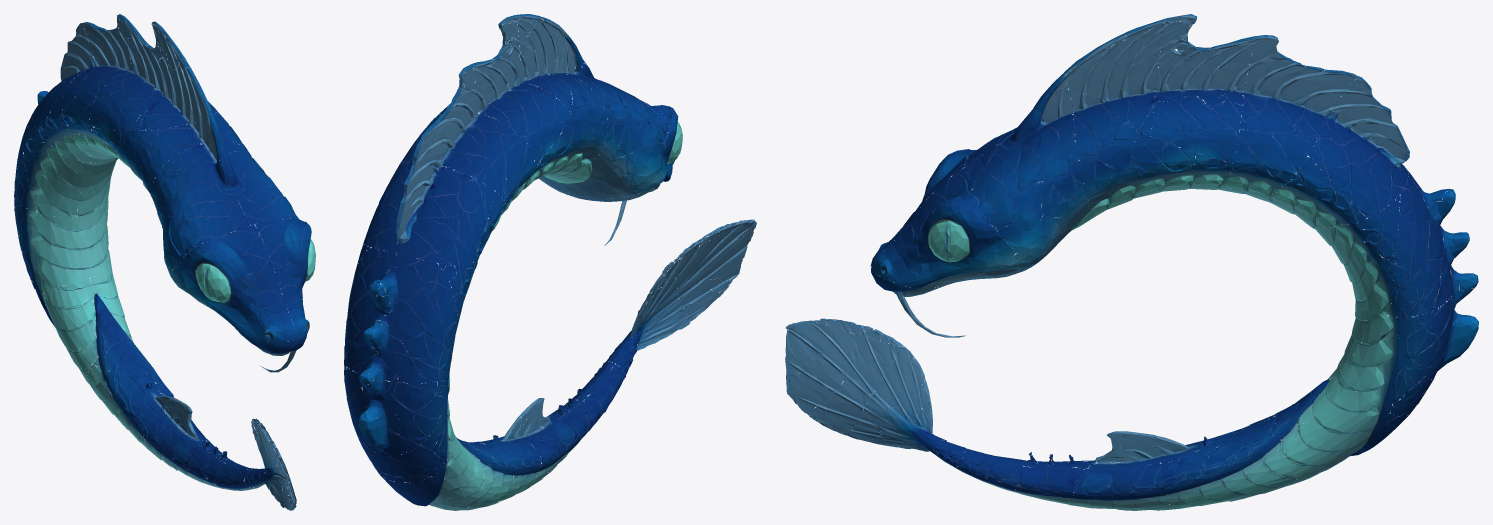
File: ripplefin.glb
The picture shows the model from 3 angles, left to right: view 1: azimuth 30°, elevation 25°; view 2: azimuth 150°, elevation 25°; view 3: azimuth 270°, elevation 25°; orthographic projection. The views are drawn at different scales.
Parts seen in each view (by area): view 1: tripo_node_de3218b3-d1b6-41b6-944c-472f3e09dbb9; view 2: tripo_node_de3218b3-d1b6-41b6-944c-472f3e09dbb9; view 3: tripo_node_de3218b3-d1b6-41b6-944c-472f3e09dbb9.
Part boxes in pixels (box(x1,y1,x2,y2)): tripo_node_de3218b3-d1b6-41b6-944c-472f3e09dbb9: box(14, 14, 315, 510); tripo_node_de3218b3-d1b6-41b6-944c-472f3e09dbb9: box(344, 14, 756, 510); tripo_node_de3218b3-d1b6-41b6-944c-472f3e09dbb9: box(785, 14, 1478, 510).
Bounding box in the file's own units: 0.2382 × 0.7866 × 0.9997.
Materials: 1 (1 with a texture image).
